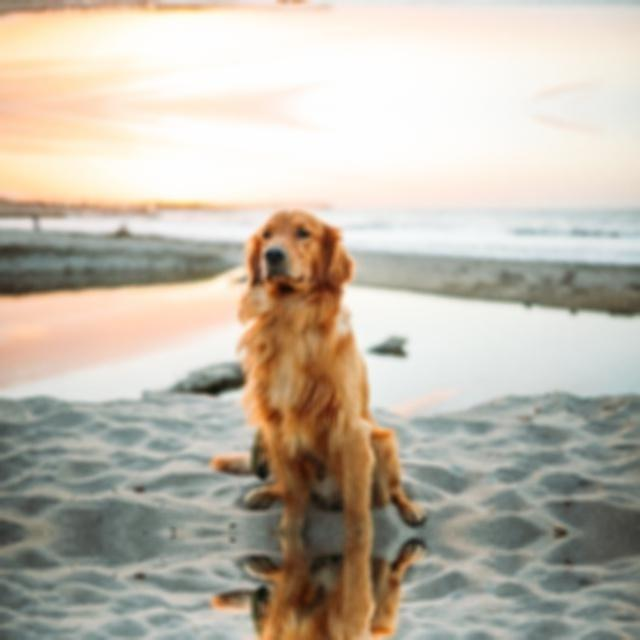dog: (224, 200, 390, 532), (224, 533, 390, 640), (224, 0, 390, 12)
